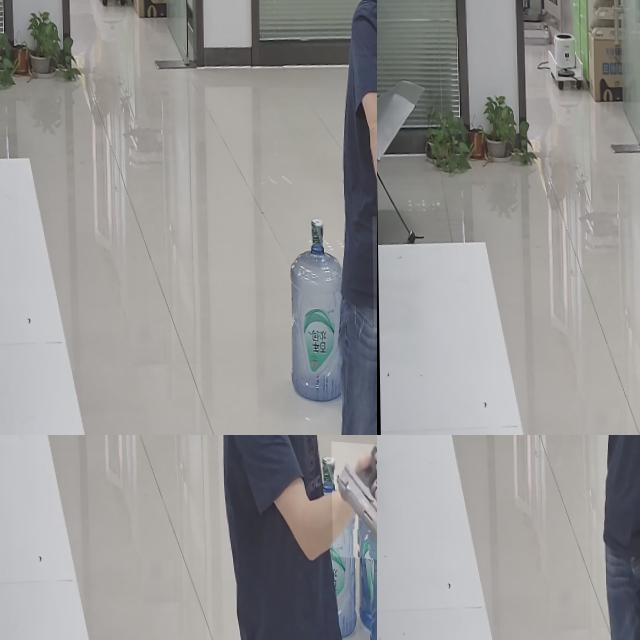gun-knife-thesis - v11 Yolov5 augmented: (329, 435, 377, 554), (529, 435, 573, 497)
